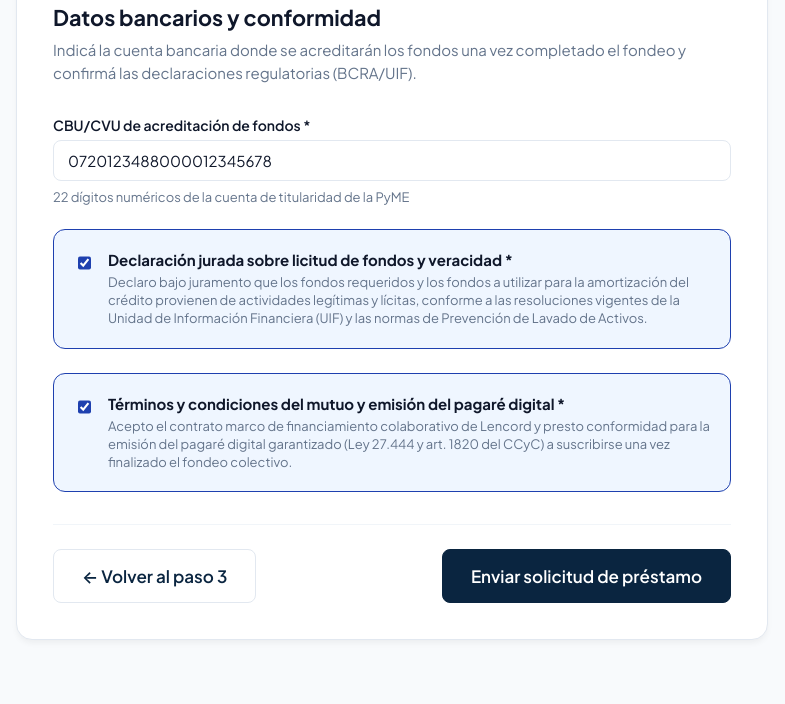
SME Loan Application Pre-population and Authenticated Submission (Issue #33) › Error Handling and Inline Retry Alert without Wiping Steps › presents an inline retry alert on network/service failure without wiping filled form steps
The width and height of the screenshot is (785, 704).
(page scrolled)
Note: Attempt submit - will fail
Click the button with test id "step4-submit-button".
click(586, 576)  # box [442,549,731,603]
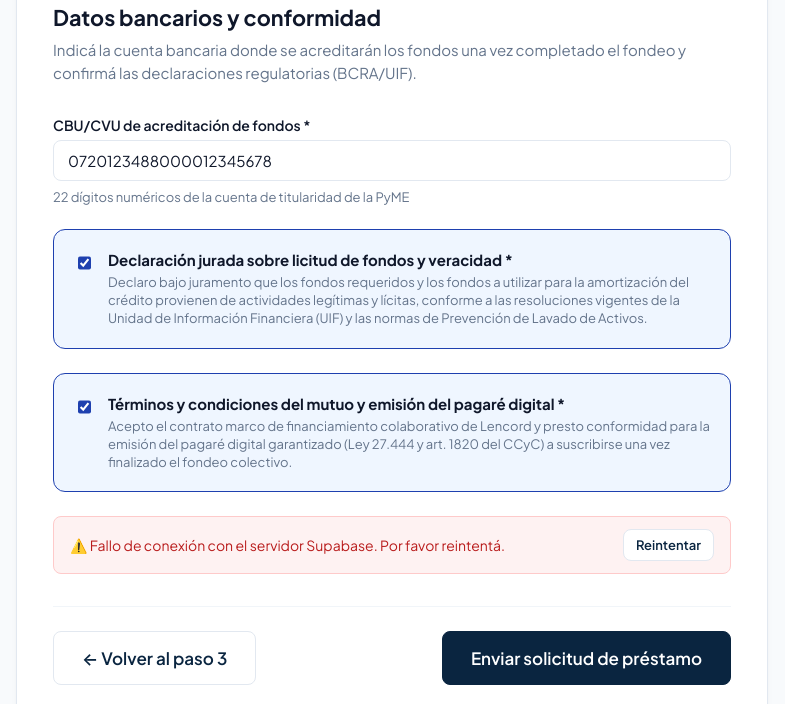
Expected: the message "⚠️ Fallo de conexión con el servidor Supabase. Por favor reintentá. Reintentar" is shown, [53,516,731,574]
Expected: the message with test id "submit-error-banner" shows "Fallo de conexión con el servidor Supabase. Por favor reintentá.", [90,536,505,554]
Expected: the button with test id "submit-retry-button" is shown
Note: Click inline retry button
Click the button with test id "submit-retry-button".
click(668, 545)  # box [623,529,714,561]
(page scrolled)
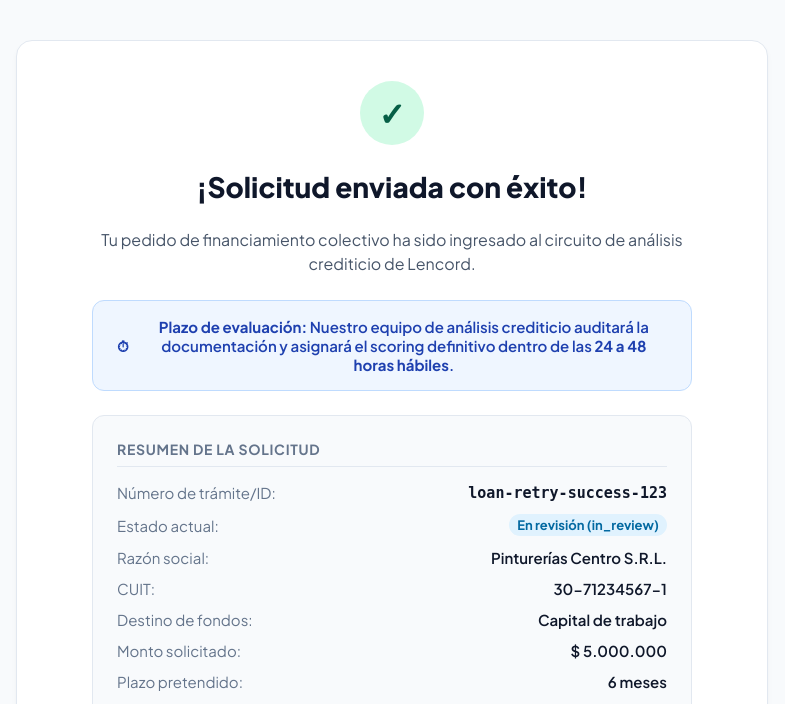
Expected: the heading "¡Solicitud enviada con éxito!" is shown, [196,169,588,204]
